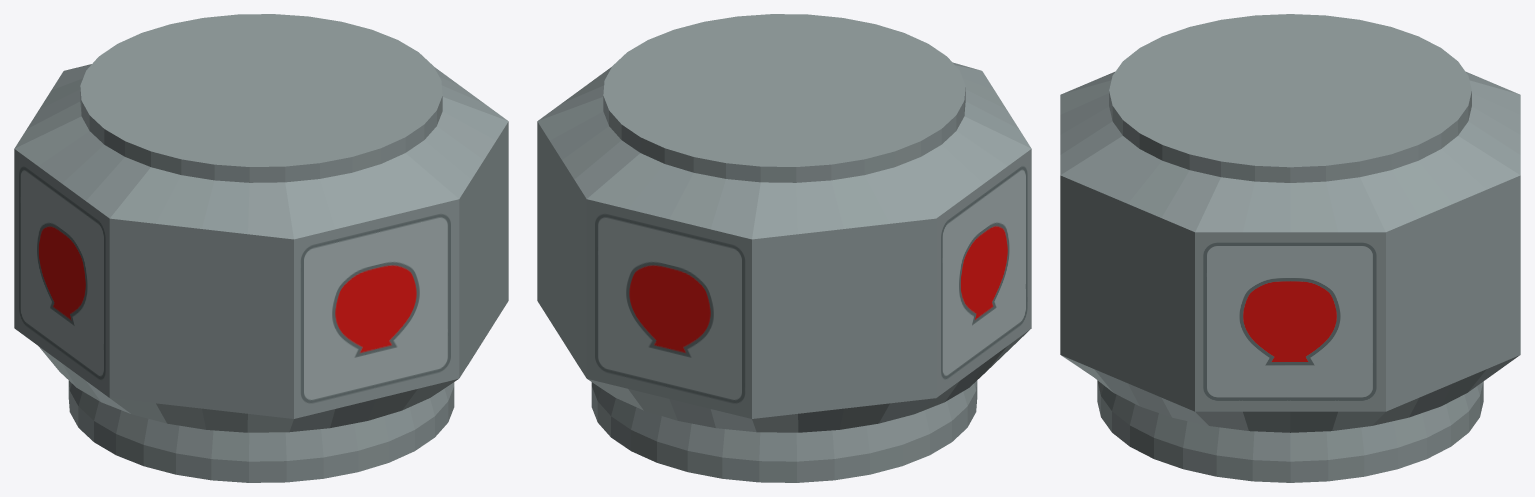
Rendered from pillar_ocean.glb.
3 renders of one model, left to right at view 1: azimuth 30°, elevation 25°; view 2: azimuth 150°, elevation 25°; view 3: azimuth 270°, elevation 25°, orthographic.
Visible parts, largest first — view 1: Cylinder; view 2: Cylinder; view 3: Cylinder.
Part boxes in pixels (left/top/right/bottom): Cylinder: left=14, top=14, right=508, bottom=482; Cylinder: left=537, top=14, right=1031, bottom=482; Cylinder: left=1060, top=14, right=1520, bottom=482.
Size of the model in its own units: 1.01 by 0.7538 by 1.01.
1 material, 1 textured.
